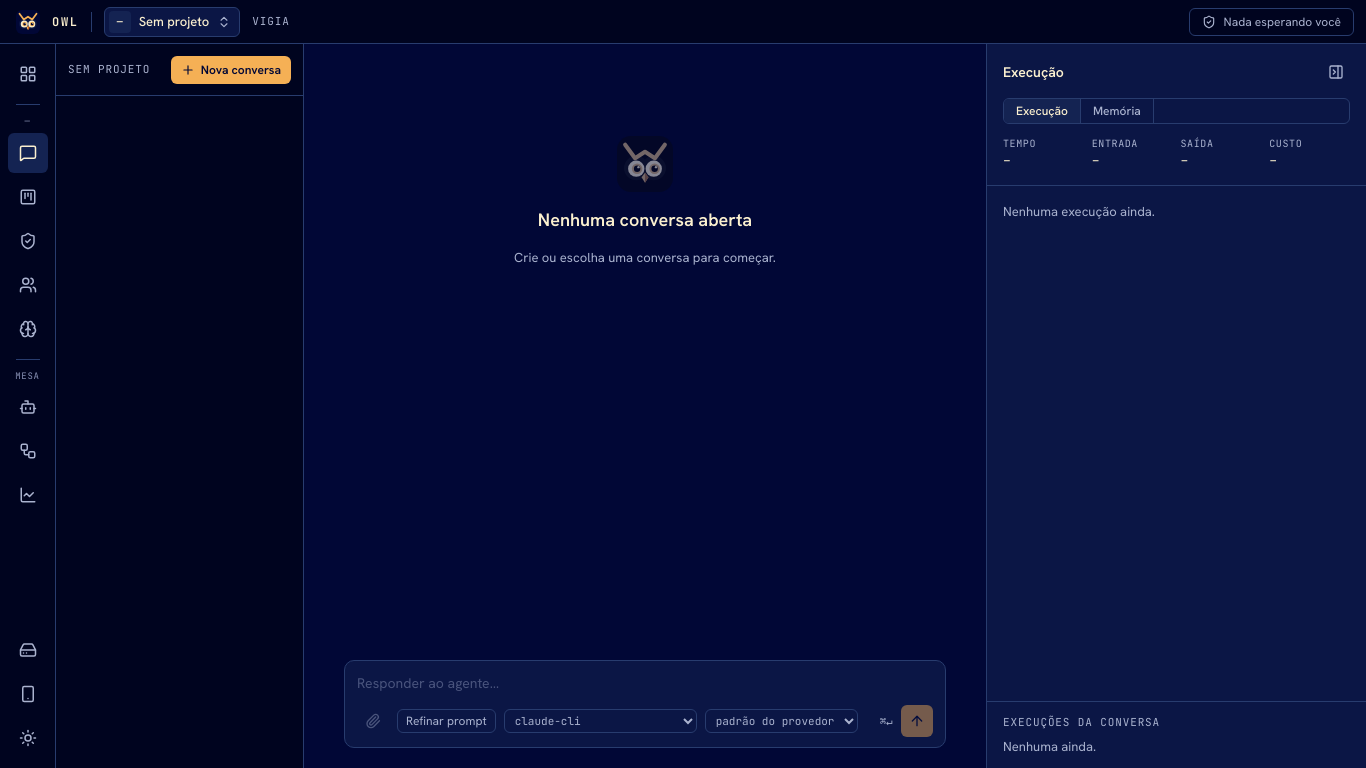
sessions list and keyboard › lists the conversations of the open project and switches project from the Vigia bar
This screenshot has width=1366, height=768.
Check: the heading "Sem projeto" is shown, box x1=68 y1=61 x2=163 y2=78
Check: the text "Do projeto" is not shown
Click the button with aria-label "Trocar de projeto" at point(172, 22), box x1=104 y1=6 x2=240 y2=36
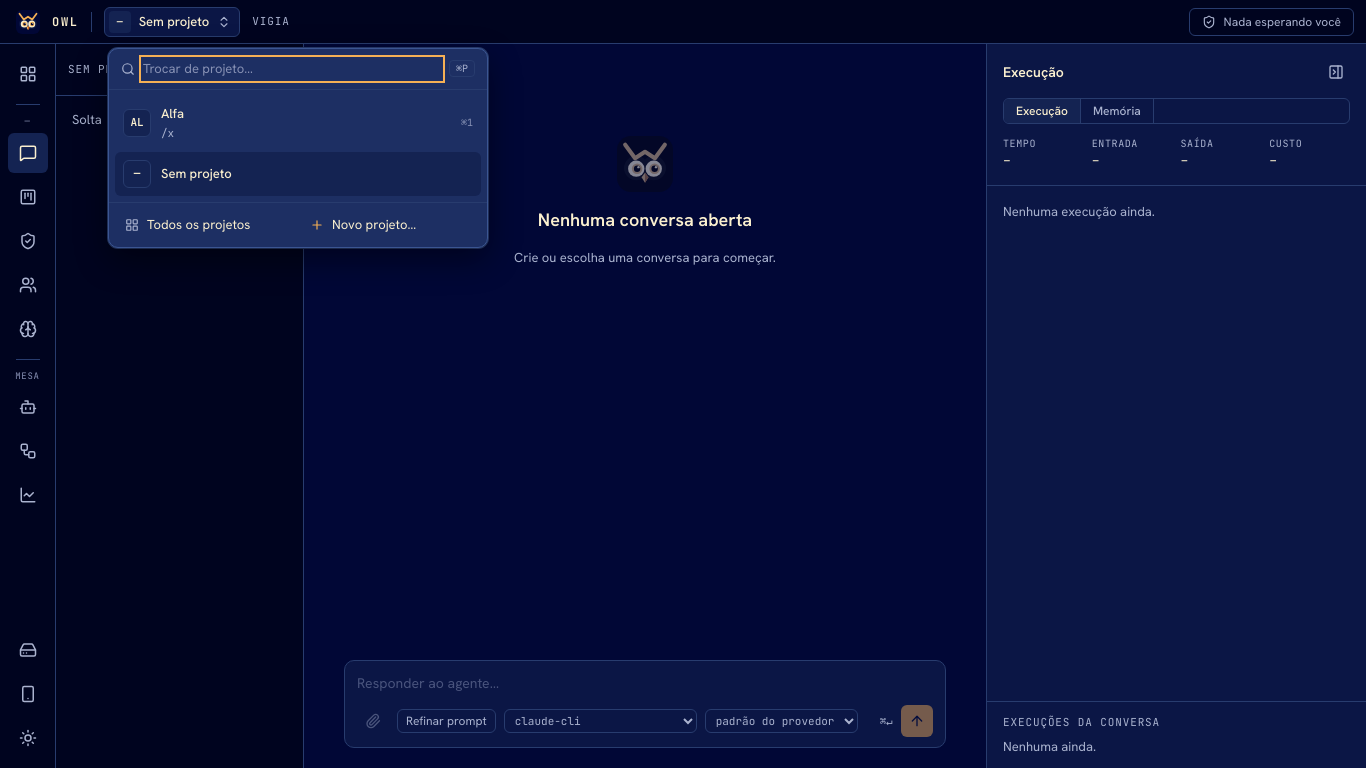
Click the option "AL Alfa /x ⌘1" at point(137, 122), box x1=115 y1=96 x2=481 y2=150
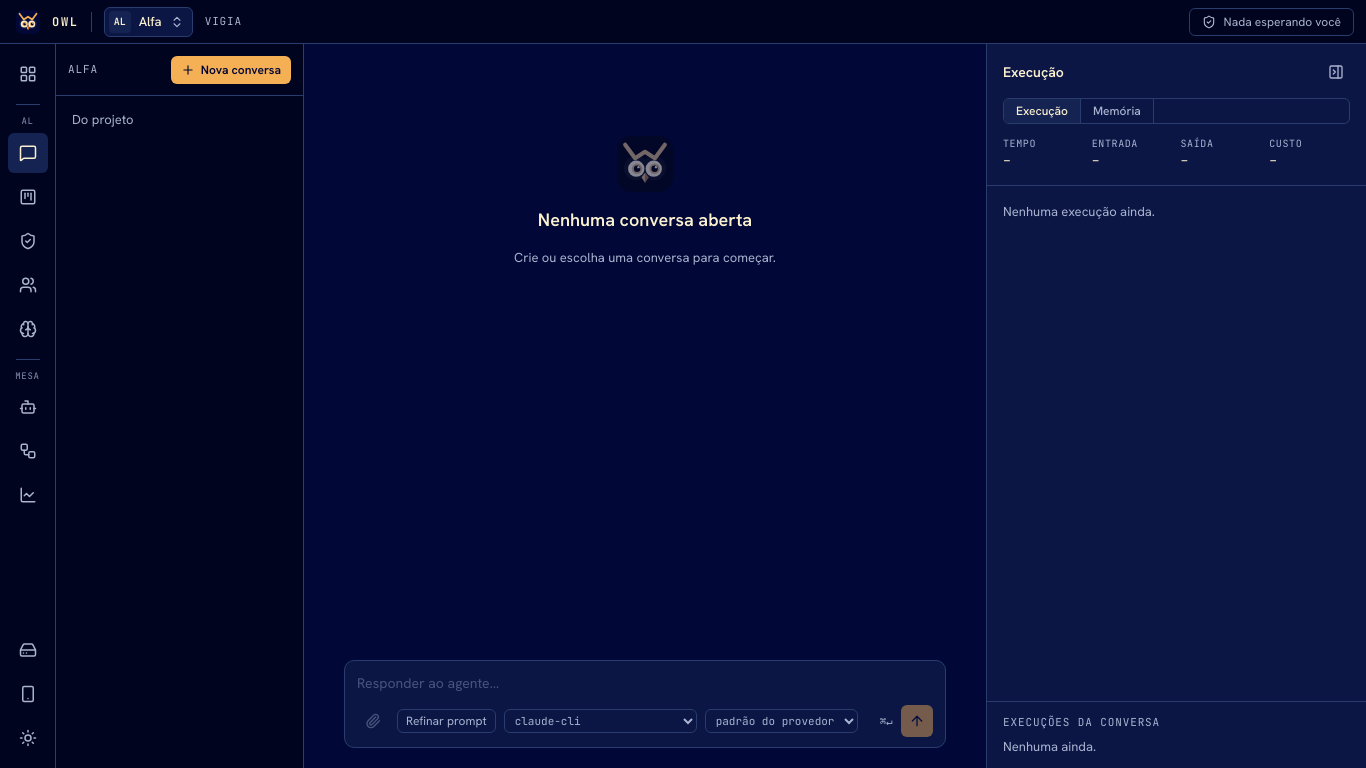
Check: the button "Do projeto" is shown, box x1=64 y1=104 x2=295 y2=136
Check: the heading "Alfa" is shown, box x1=68 y1=62 x2=98 y2=76
